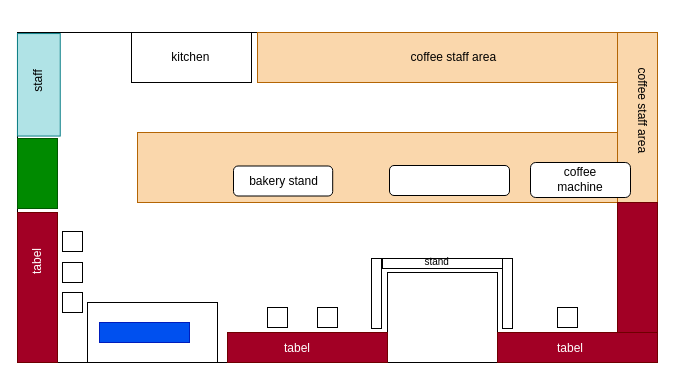
This 676x380 diagram has some shape labels left out. The shapes that lost their labels are listed below. From the top down, each one's box as (x1, y1, x2, y2) in pixels, then its label:
(16, 138, 58, 208): fridge
(388, 164, 510, 196): pos system
(98, 322, 190, 342): Entrance
